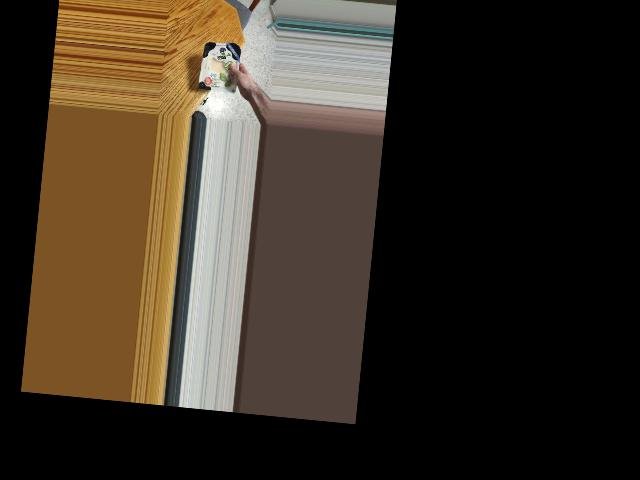cheese: (197, 29, 244, 104)
